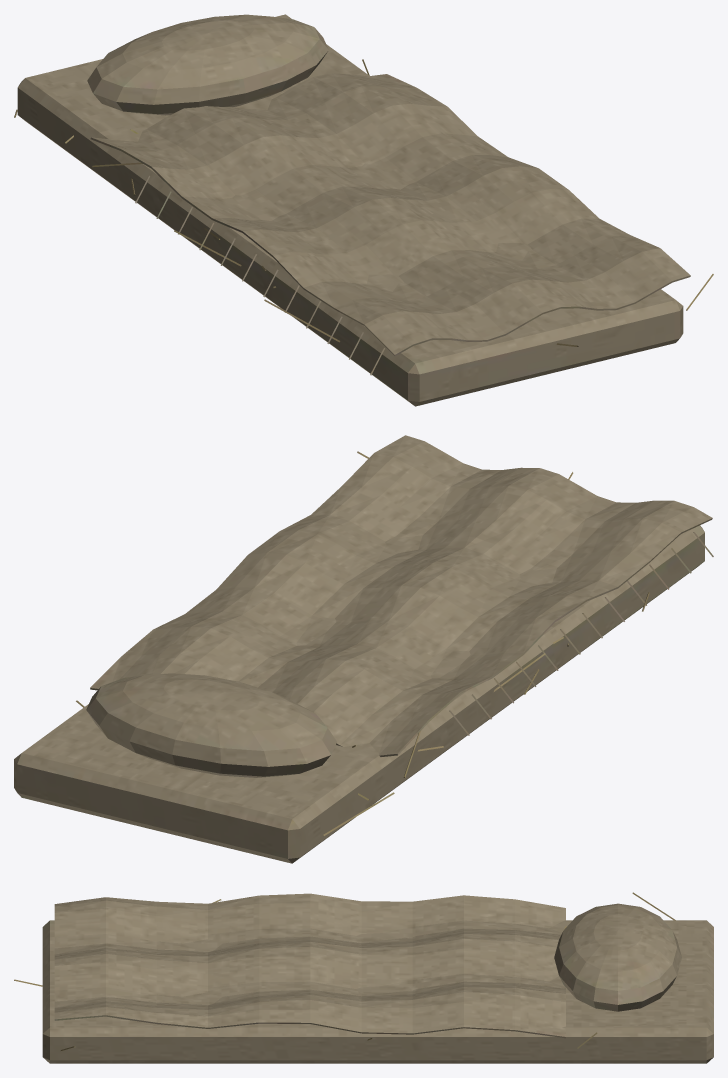
Rendered from straw-bedding.glb.
3 renders of one model, top to bottom at view 1: azimuth 30°, elevation 25°; view 2: azimuth 150°, elevation 25°; view 3: azimuth 270°, elevation 25°, orthographic. The views are drawn at different scales.
Parts seen in each view (by area): view 1: straw-bedding; view 2: straw-bedding; view 3: straw-bedding.
Part boxes in pixels (<box>): straw-bedding: <box>14,14,713,406</box>; straw-bedding: <box>14,435,713,863</box>; straw-bedding: <box>14,892,713,1063</box>.
Bounding box in the file's own units: 0.8953 × 0.22 × 1.75.
1 material, 1 textured.
